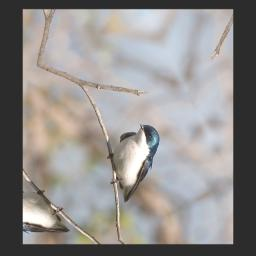Swallow: (92, 119, 181, 207)
